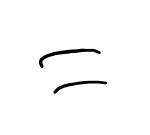eqv: (35, 44, 110, 96)
